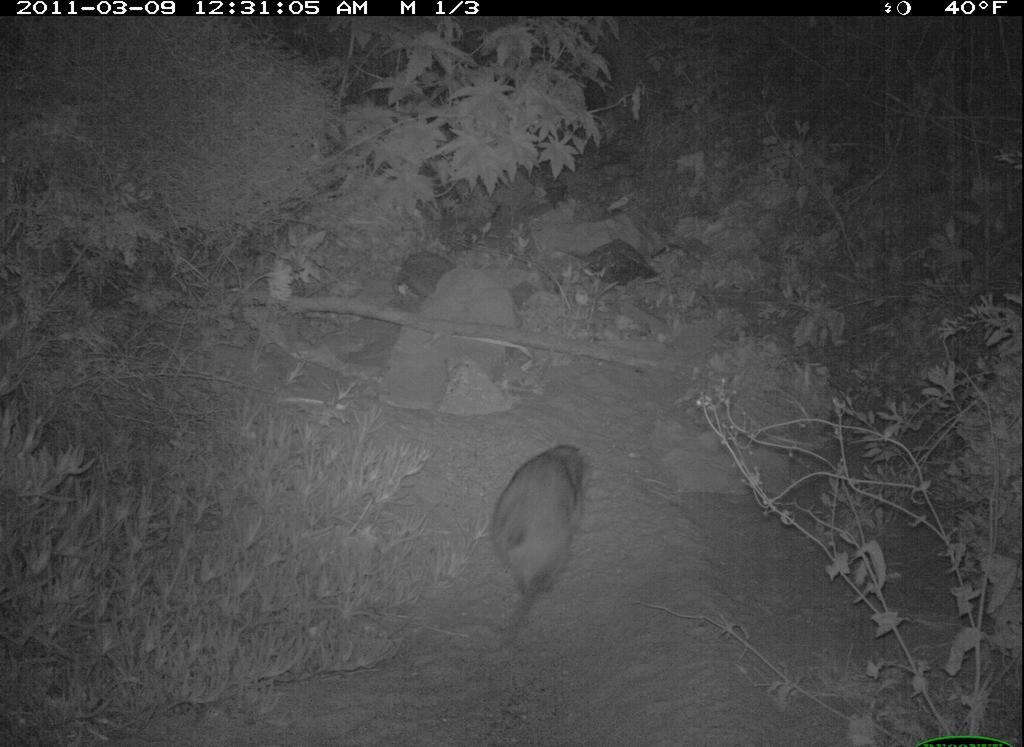raccoon: (478, 427, 593, 651)
